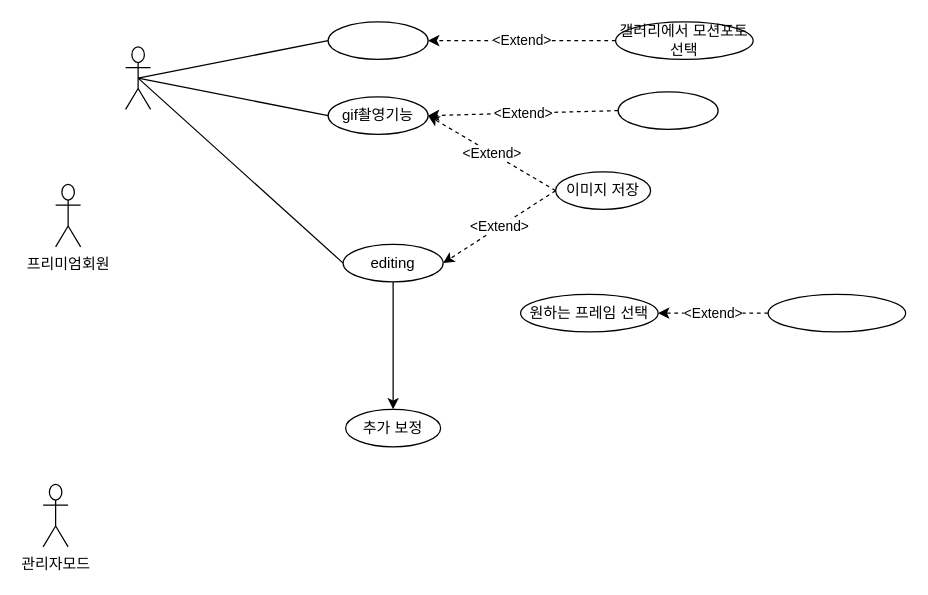
This 928x595 diagram has some shape labels left out. Here are the shapes that lost their labels. From the top down, the centre of each, then its label:
At (x=377, y=40): "gif로드 기능".
At (x=137, y=77): "일반회원".
At (x=667, y=110): "타이머 설정".
At (x=836, y=312): "선택 된 프레임들을 표시".
